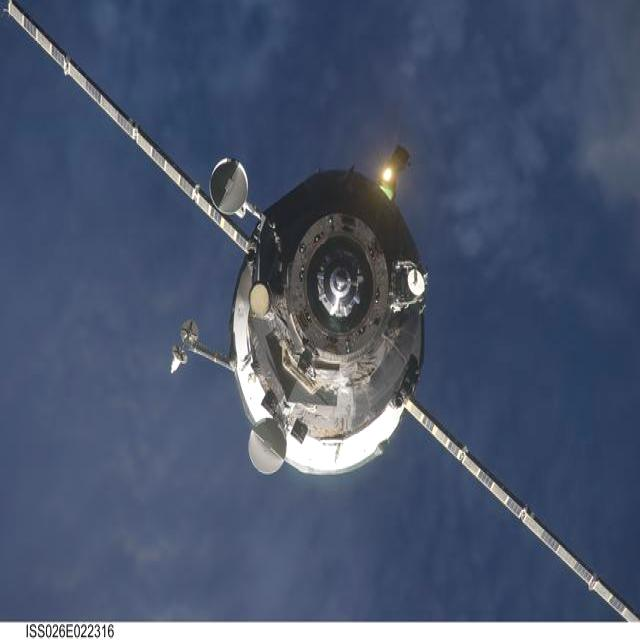medium_debris: (6, 0, 638, 620)
